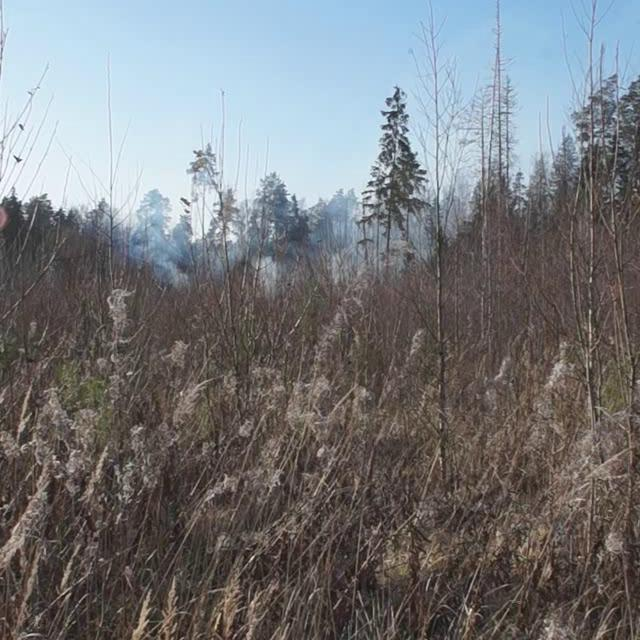Smoke: (98, 161, 508, 303)
